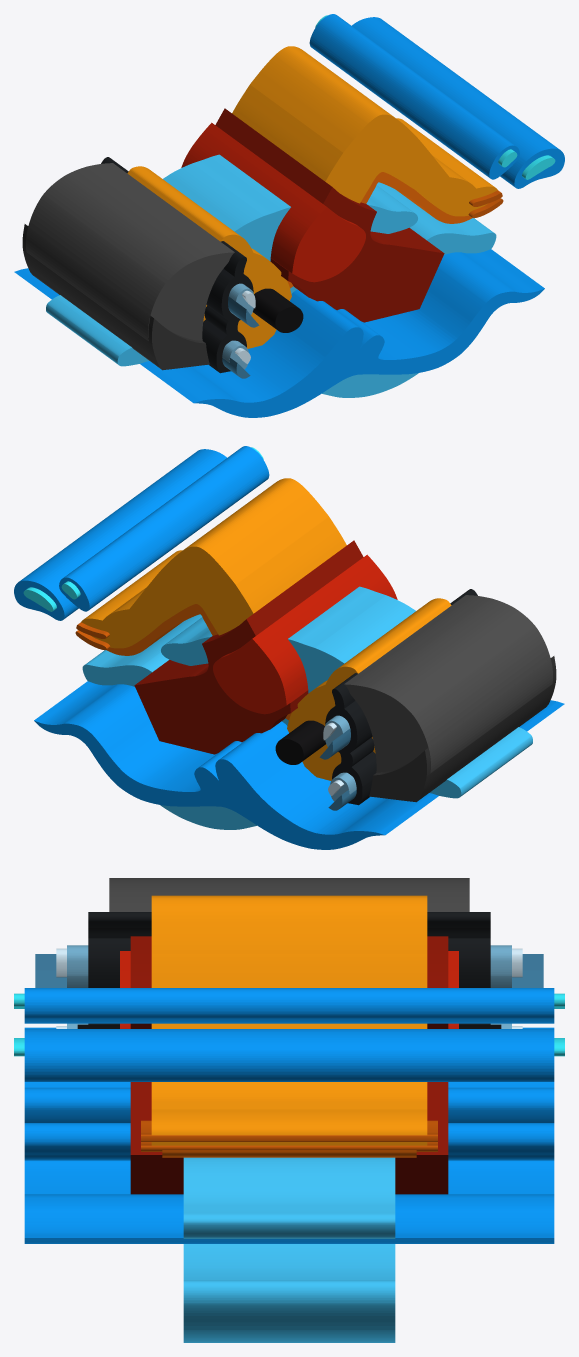
3 renders of one model, top to bottom at view 1: azimuth 30°, elevation 25°; view 2: azimuth 150°, elevation 25°; view 3: azimuth 270°, elevation 25°, orthographic. The views are drawn at different scales.
Parts seen in each view (by area): view 1: U+1F3CA_layer15_obj02, U+1F3CA_layer07_obj00, U+1F3CA_layer03_obj00, U+1F3CA_layer05_obj00, U+1F3CA_layer15_obj00, U+1F3CA_layer06_obj00, U+1F3CA_layer00_obj00, U+1F3CA_layer15_obj01, U+1F3CA_layer00_obj02, U+1F3CA_layer08_obj00, U+1F3CA_layer03_obj01, U+1F3CA_layer09_obj00 (+3 smaller); view 2: U+1F3CA_layer15_obj02, U+1F3CA_layer07_obj00, U+1F3CA_layer03_obj00, U+1F3CA_layer05_obj00, U+1F3CA_layer15_obj00, U+1F3CA_layer06_obj00, U+1F3CA_layer00_obj00, U+1F3CA_layer15_obj01, U+1F3CA_layer00_obj02, U+1F3CA_layer08_obj00, U+1F3CA_layer03_obj01, U+1F3CA_layer09_obj00 (+3 smaller); view 3: U+1F3CA_layer03_obj00, U+1F3CA_layer15_obj02, U+1F3CA_layer15_obj01, U+1F3CA_layer00_obj01, U+1F3CA_layer15_obj00, U+1F3CA_layer00_obj02, U+1F3CA_layer05_obj00, U+1F3CA_layer07_obj00, U+1F3CA_layer09_obj00, U+1F3CA_layer04_obj02, U+1F3CA_layer02_obj00, U+1F3CA_layer04_obj00 (+4 smaller).
Boxes of the visible parts, x1=… form: U+1F3CA_layer15_obj02: x1=14, y1=249, x2=544, y2=417; U+1F3CA_layer07_obj00: x1=26, y1=163, x2=234, y2=365; U+1F3CA_layer03_obj00: x1=232, y1=46, x2=497, y2=216; U+1F3CA_layer05_obj00: x1=215, y1=108, x2=444, y2=322; U+1F3CA_layer15_obj00: x1=309, y1=14, x2=519, y2=179; U+1F3CA_layer06_obj00: x1=181, y1=122, x2=365, y2=282; U+1F3CA_layer00_obj00: x1=163, y1=154, x2=417, y2=261; U+1F3CA_layer15_obj01: x1=352, y1=17, x2=564, y2=188; U+1F3CA_layer00_obj02: x1=46, y1=182, x2=496, y2=366; U+1F3CA_layer08_obj00: x1=22, y1=224, x2=209, y2=370; U+1F3CA_layer03_obj01: x1=127, y1=166, x2=291, y2=348; U+1F3CA_layer09_obj00: x1=101, y1=157, x2=253, y2=373; U+1F3CA_layer15_obj02: x1=34, y1=681, x2=564, y2=849; U+1F3CA_layer07_obj00: x1=344, y1=595, x2=552, y2=797; U+1F3CA_layer03_obj00: x1=81, y1=478, x2=346, y2=648; U+1F3CA_layer05_obj00: x1=134, y1=540, x2=363, y2=754; U+1F3CA_layer15_obj00: x1=59, y1=446, x2=269, y2=611; U+1F3CA_layer06_obj00: x1=213, y1=554, x2=397, y2=714; U+1F3CA_layer00_obj00: x1=161, y1=586, x2=415, y2=693; U+1F3CA_layer15_obj01: x1=14, y1=449, x2=226, y2=620; U+1F3CA_layer00_obj02: x1=82, y1=614, x2=532, y2=798; U+1F3CA_layer08_obj00: x1=369, y1=656, x2=556, y2=802; U+1F3CA_layer03_obj01: x1=287, y1=598, x2=451, y2=780; U+1F3CA_layer09_obj00: x1=325, y1=589, x2=477, y2=805; U+1F3CA_layer03_obj00: x1=151, y1=895, x2=427, y2=1145; U+1F3CA_layer15_obj02: x1=24, y1=1027, x2=554, y2=1243; U+1F3CA_layer15_obj01: x1=24, y1=1029, x2=554, y2=1081; U+1F3CA_layer00_obj01: x1=183, y1=1244, x2=395, y2=1342; U+1F3CA_layer15_obj00: x1=24, y1=988, x2=554, y2=1023; U+1F3CA_layer00_obj02: x1=183, y1=1157, x2=395, y2=1238; U+1F3CA_layer05_obj00: x1=130, y1=936, x2=448, y2=1194; U+1F3CA_layer07_obj00: x1=109, y1=878, x2=469, y2=911; U+1F3CA_layer09_obj00: x1=88, y1=912, x2=490, y2=1024; U+1F3CA_layer04_obj02: x1=141, y1=1120, x2=437, y2=1141; U+1F3CA_layer02_obj00: x1=162, y1=1150, x2=416, y2=1157; U+1F3CA_layer04_obj00: x1=141, y1=1142, x2=437, y2=1151.
Bounding box in the file's own units: 0.3162 × 0.2217 × 0.26.
